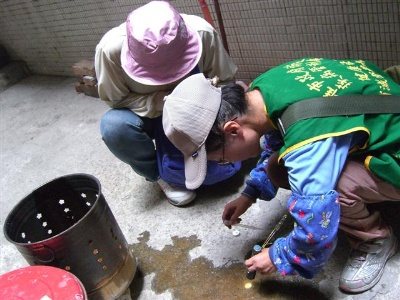bucket: (4, 173, 138, 299)
